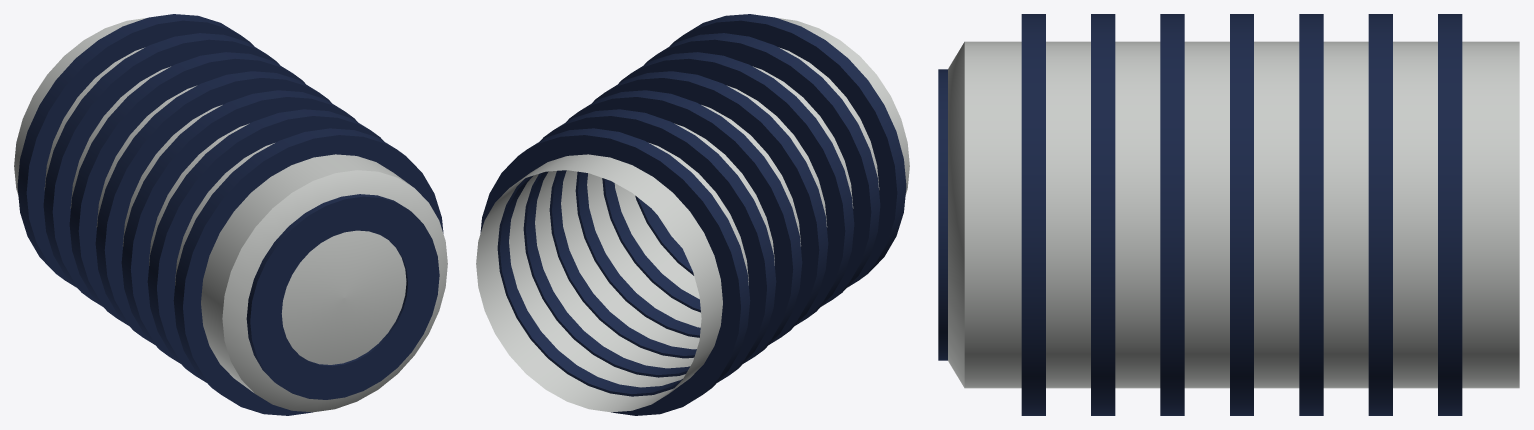
The model's file is s60_vessel.obj.
3 views of the same model, side by side, from view 1: azimuth 30°, elevation 25°; view 2: azimuth 150°, elevation 25°; view 3: azimuth 270°, elevation 25° (orthographic). The views are drawn at different scales.
Visible parts, largest first — view 1: s60_vessel; view 2: s60_vessel; view 3: s60_vessel.
Boxes of the visible parts, x1,y1,x2,y2 form: s60_vessel: (14, 14, 447, 415); s60_vessel: (476, 14, 909, 415); s60_vessel: (938, 14, 1519, 415).
Bounding box in the file's own units: 0.8366 × 0.8366 × 1.21.
